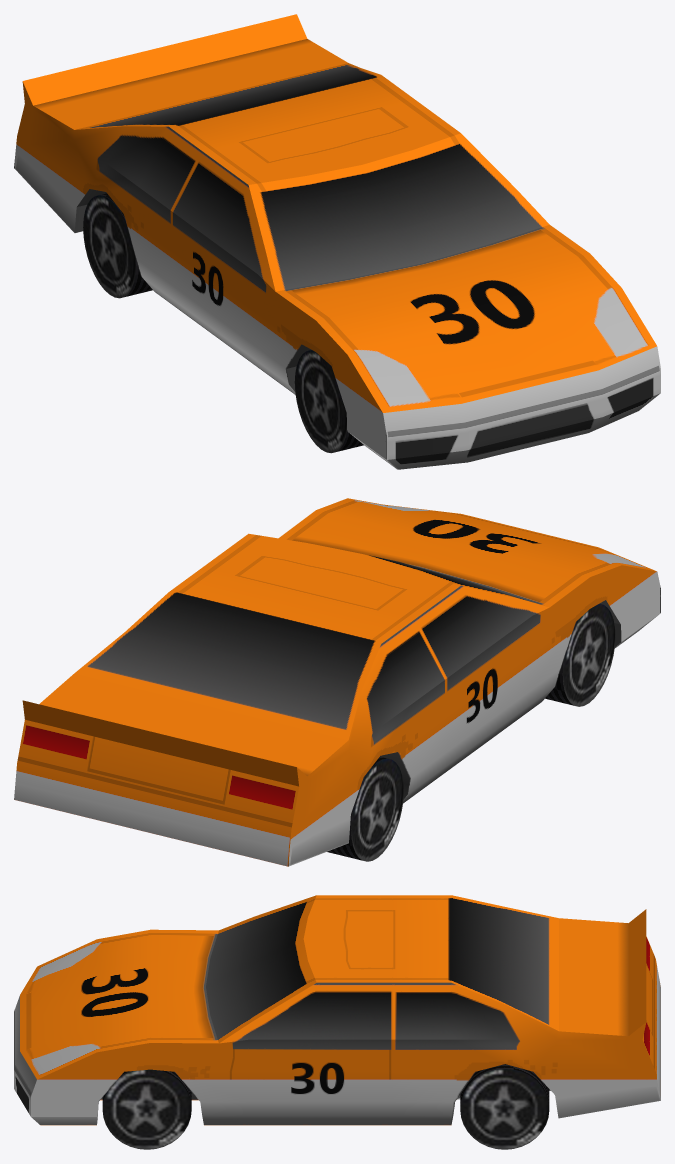
File: OrangeStockCar.fbx
3 views of the same model, one above another, from view 1: azimuth 30°, elevation 25°; view 2: azimuth 150°, elevation 25°; view 3: azimuth 270°, elevation 25° (orthographic). The views are drawn at different scales.
Visible parts, largest first — view 1: Car_Body, WheelRR-Mesh, WheelFR_Mesh; view 2: Car_Body, WheelRR-Mesh, WheelFR_Mesh; view 3: Car_Body, wheelRL_Mesh, WheelFL_Mesh.
Boxes of the visible parts, <box> form: Car_Body: <box>14,14,660,469</box>; WheelRR-Mesh: <box>83,193,152,298</box>; WheelFR_Mesh: <box>294,350,363,453</box>; Car_Body: <box>14,498,660,866</box>; WheelRR-Mesh: <box>327,757,403,861</box>; WheelFR_Mesh: <box>545,603,615,706</box>; Car_Body: <box>14,895,660,1125</box>; wheelRL_Mesh: <box>460,1064,549,1149</box>; WheelFL_Mesh: <box>102,1069,191,1149</box>.
Size of the model in its own units: 4.15 by 2.66 by 10.02.
